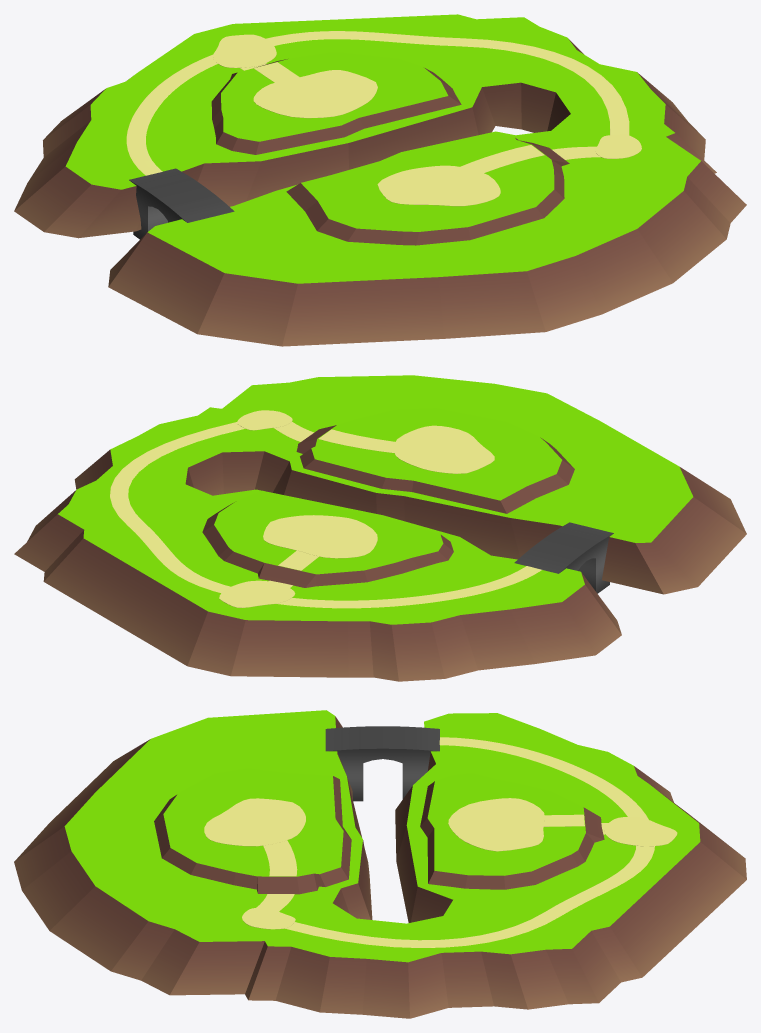
The model's file is Map3_Ramp.fbx.
3 renders of one model, top to bottom at view 1: azimuth 30°, elevation 25°; view 2: azimuth 150°, elevation 25°; view 3: azimuth 270°, elevation 25°, orthographic. The views are drawn at different scales.
Visible parts, largest first — view 1: Map3; view 2: Map3; view 3: Map3.
Boxes of the visible parts, <box> form: Map3: <box>14,14,746,346</box>; Map3: <box>14,375,746,681</box>; Map3: <box>14,710,746,1018</box>.
Bounding box in the file's own units: 6525 × 614 × 6952.
